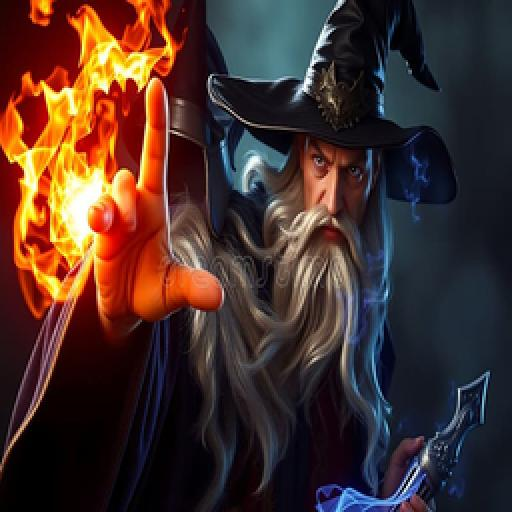wizards: (86, 2, 461, 510)
